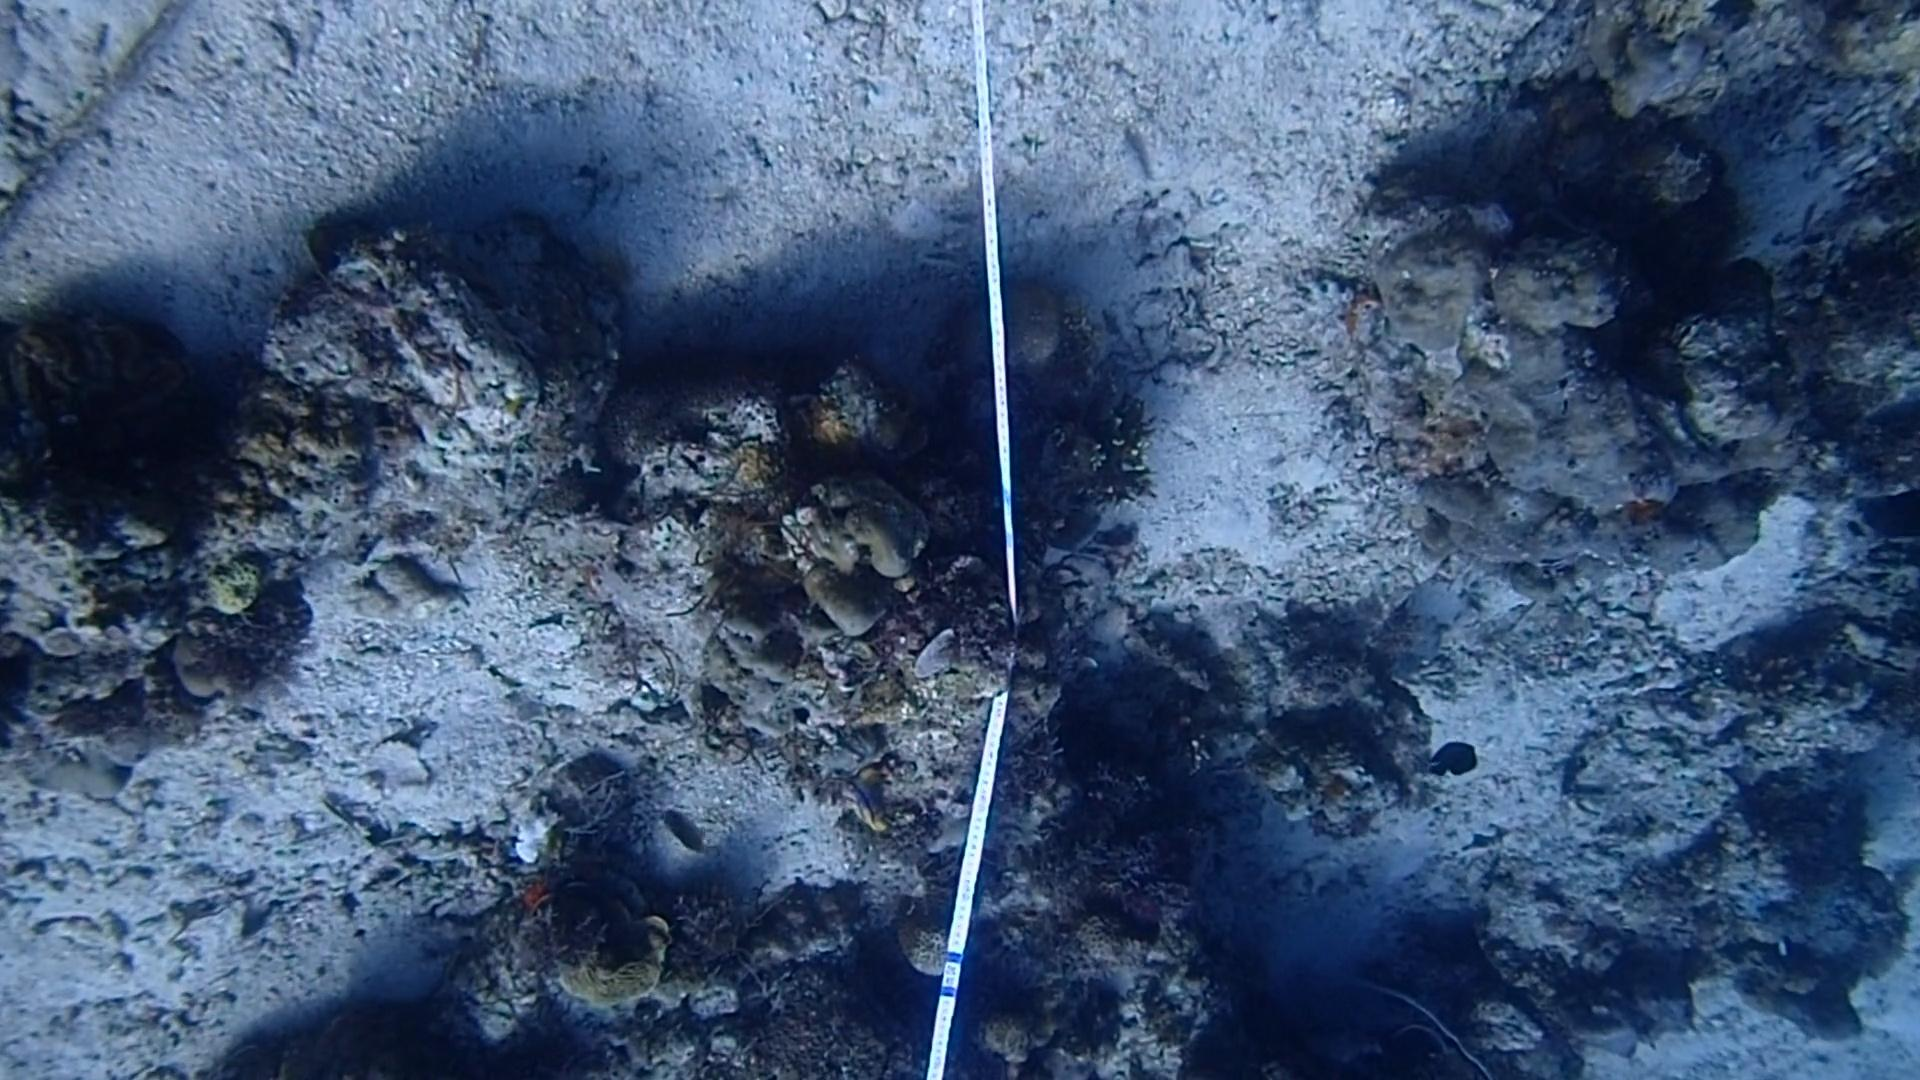Dark Fish: (1854, 487, 1920, 555), (1420, 733, 1487, 790)
Light Fish: (653, 795, 717, 864)
